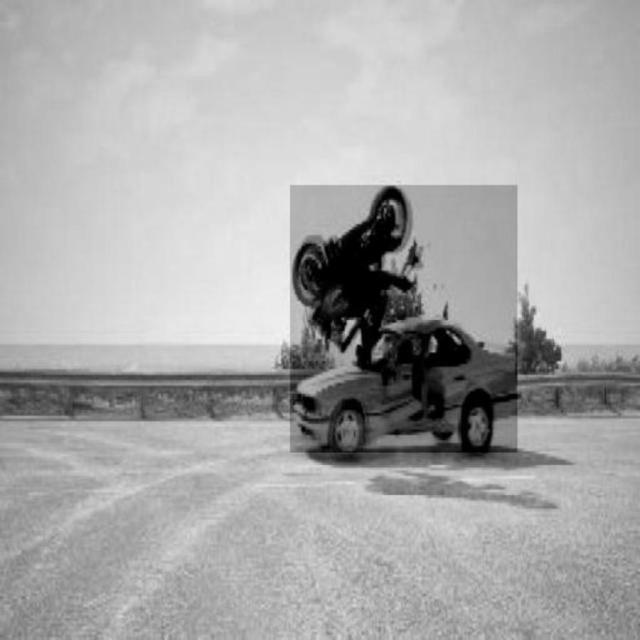accident: (291, 185, 518, 453)
